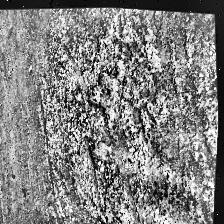pothole: (81, 66, 125, 120), (88, 135, 114, 165)
